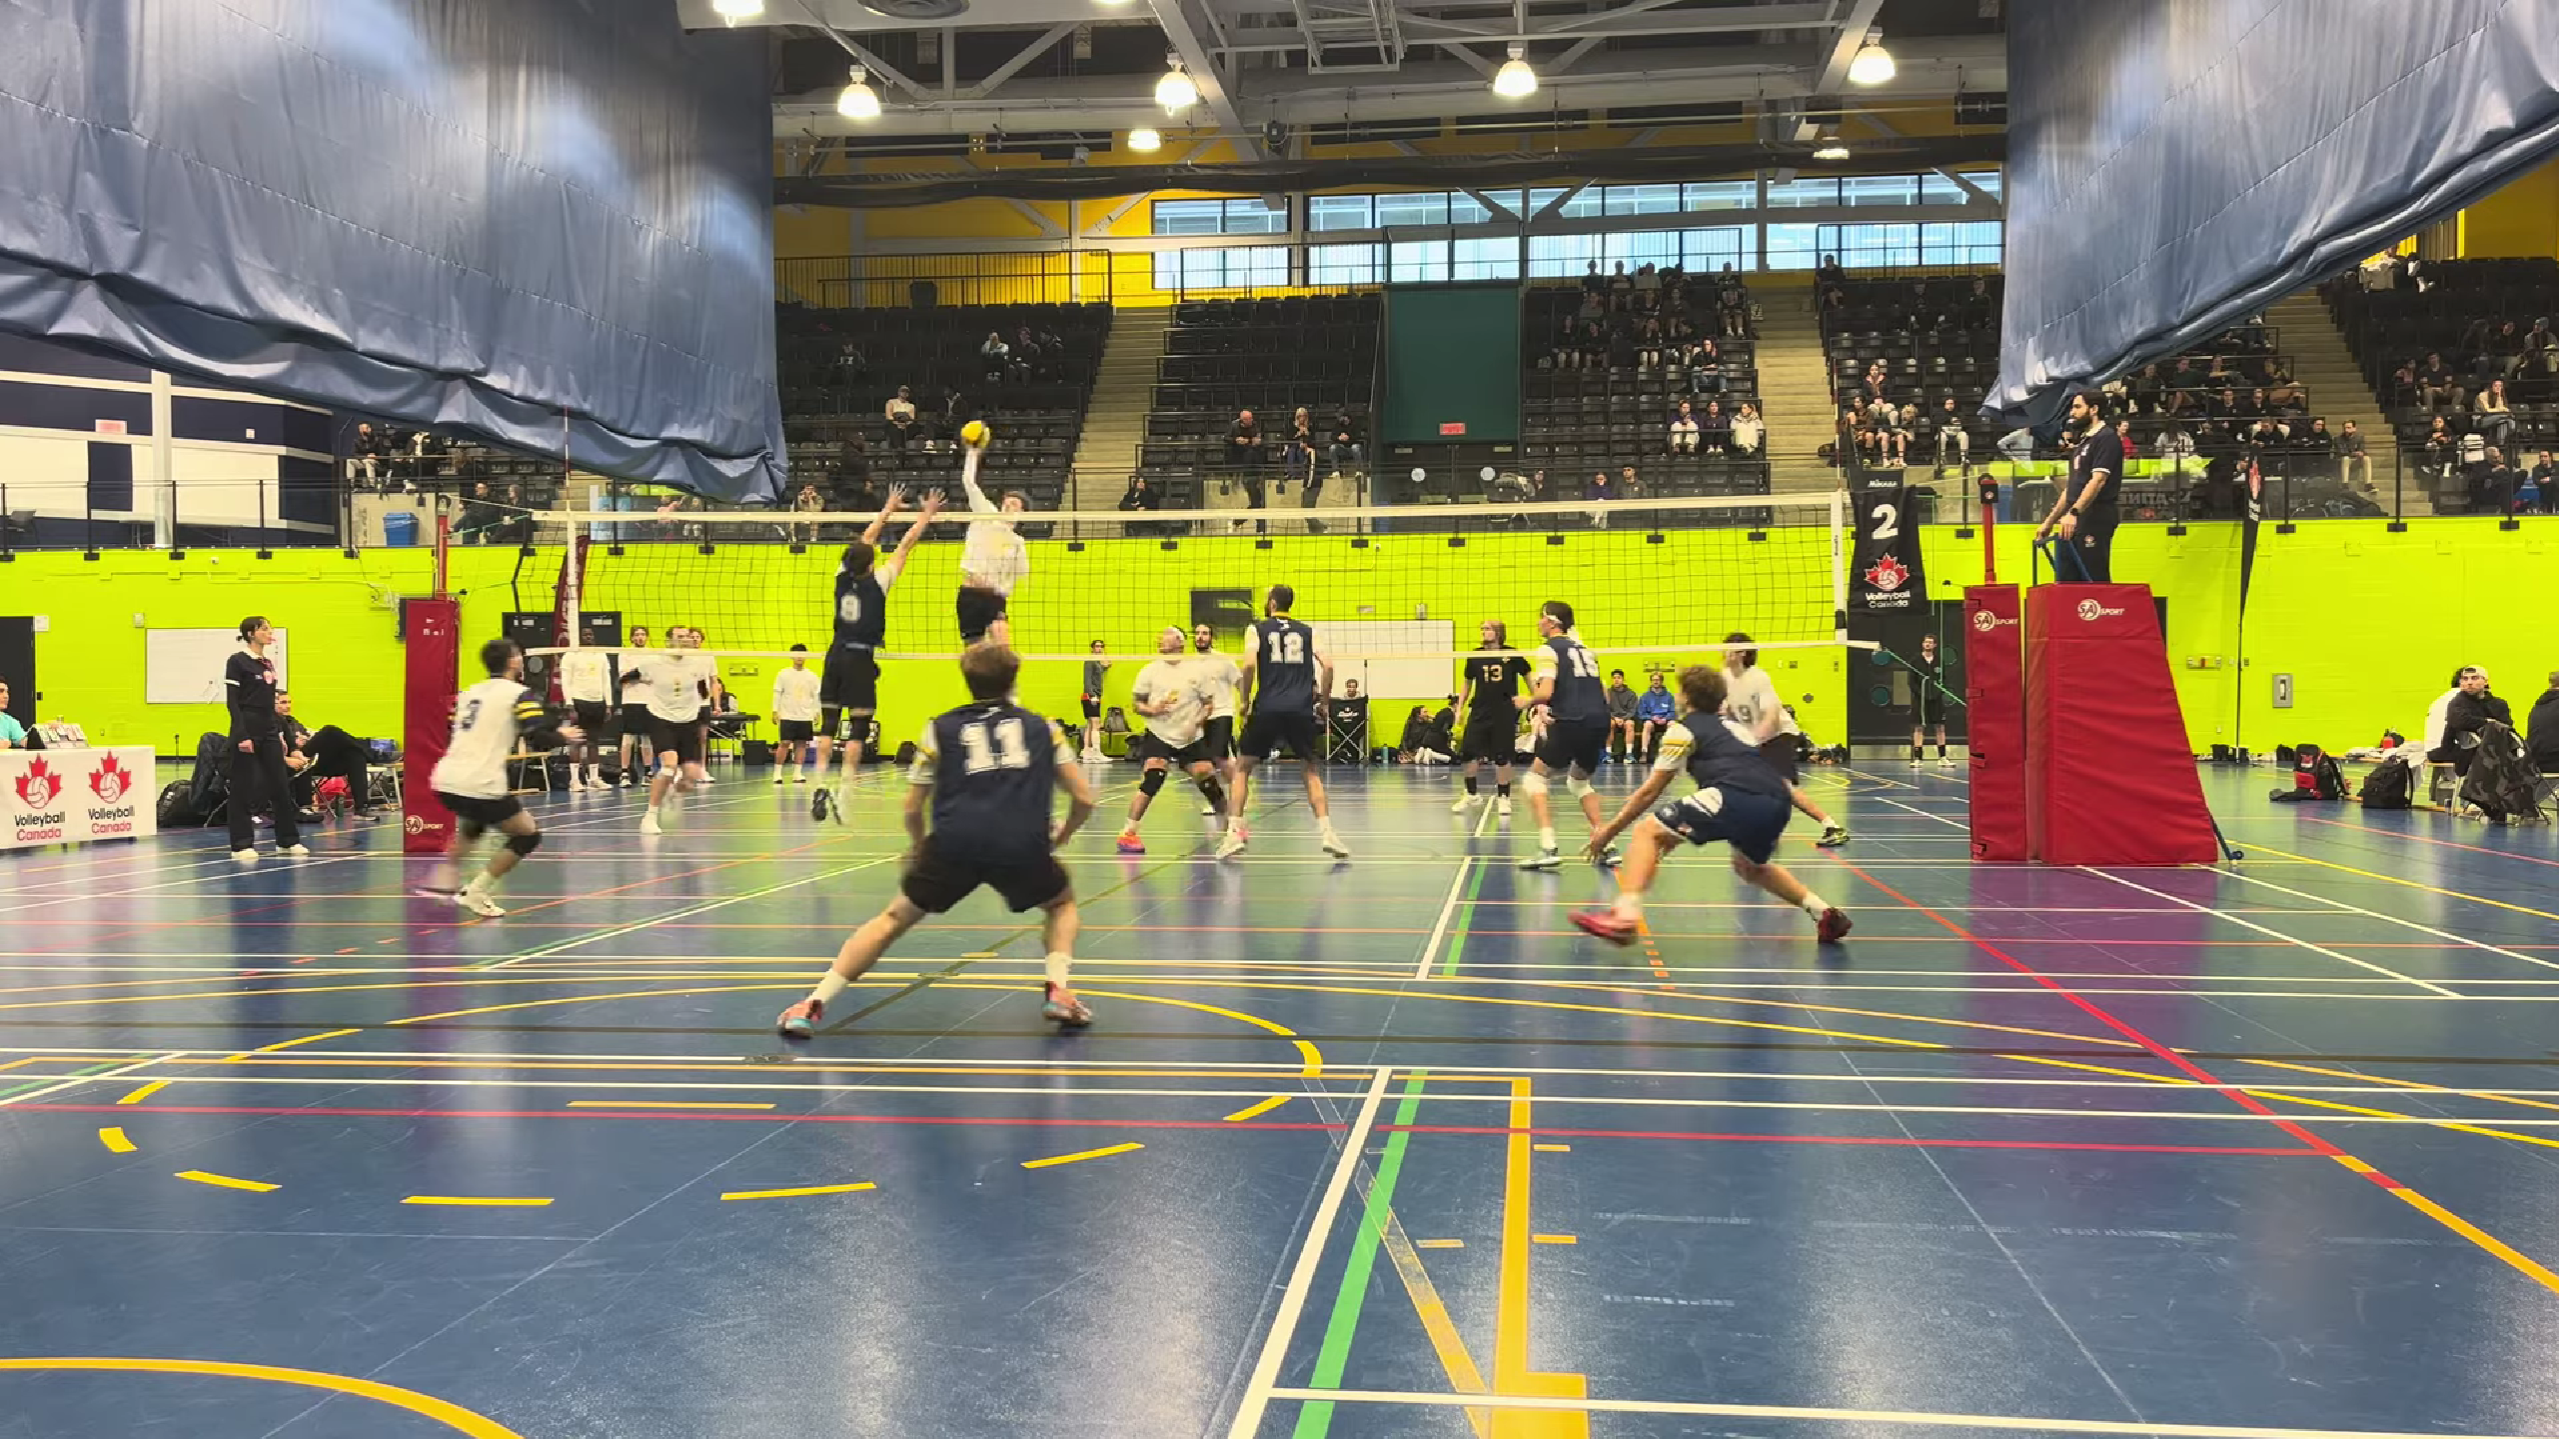Ball: (958, 418, 993, 452)
